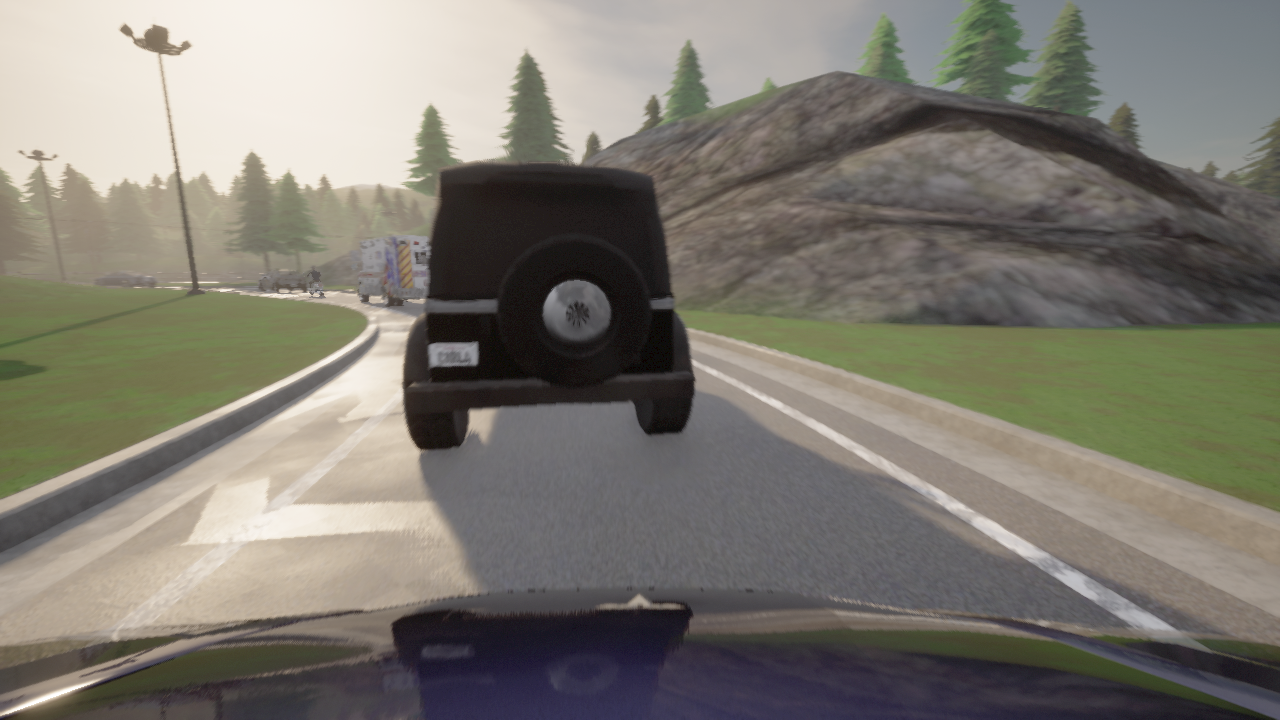cyclist: (0, 588, 1279, 719), (402, 161, 694, 449), (350, 235, 428, 306), (258, 269, 307, 292), (92, 271, 156, 287), (303, 272, 323, 296)
